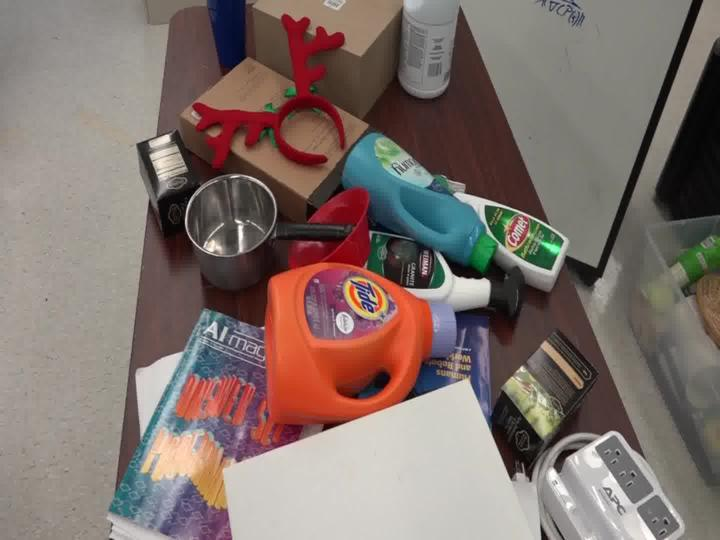downy: (319, 107, 505, 291)
